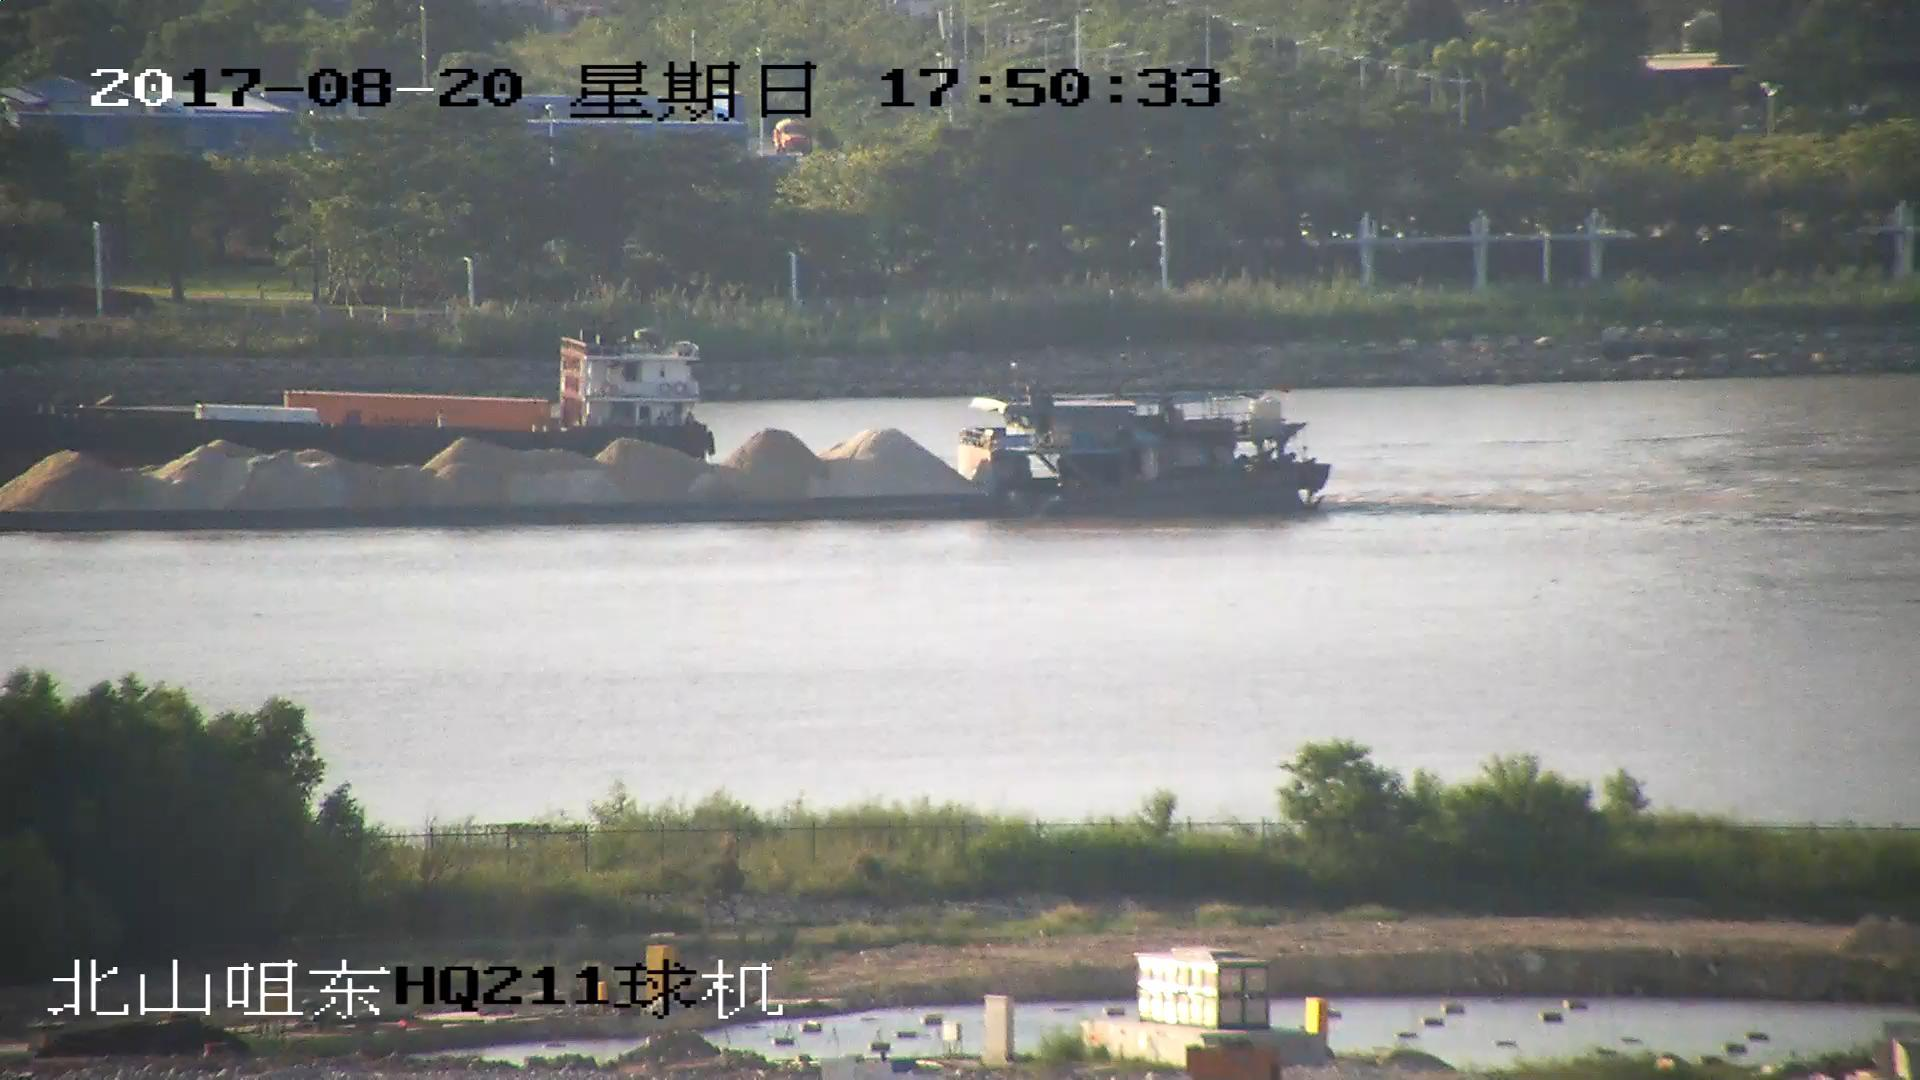Ship: (3, 376, 1331, 527), (3, 320, 717, 485)
